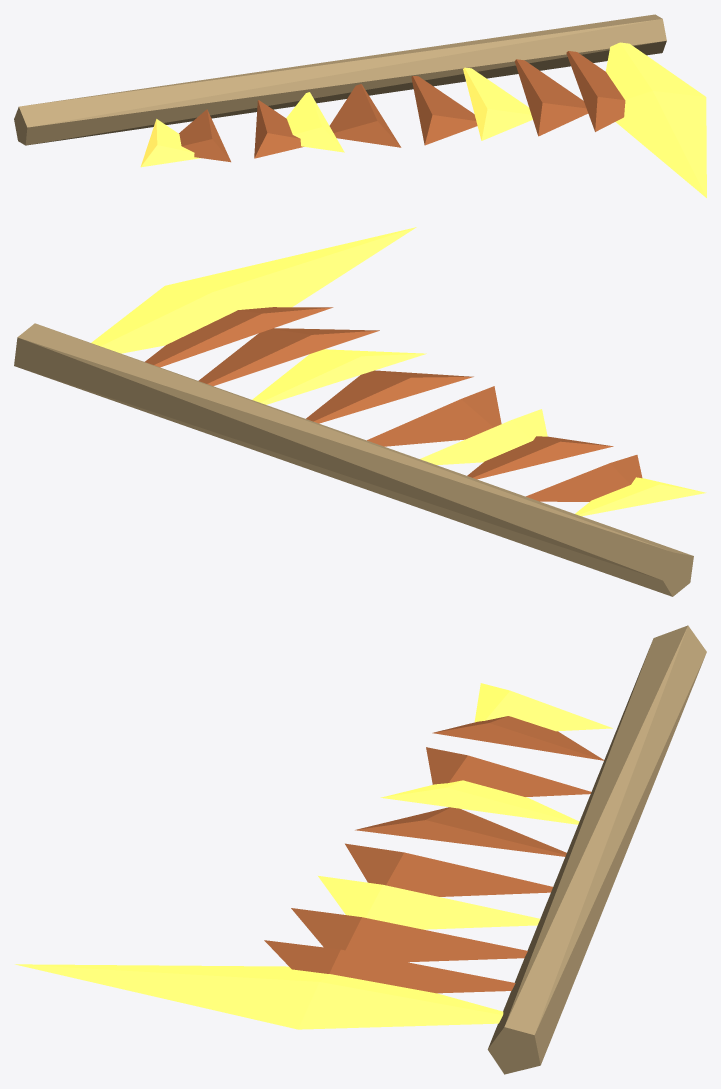
The model's file is wing_l_lod1.glb.
3 renders of one model, top to bottom at view 1: azimuth 30°, elevation 25°; view 2: azimuth 150°, elevation 25°; view 3: azimuth 270°, elevation 25°, orthographic. The views are drawn at different scales.
Visible parts, largest first — view 1: phoenix_wing_l_LOD1; view 2: phoenix_wing_l_LOD1; view 3: phoenix_wing_l_LOD1.
Part boxes in pixels (<box>): phoenix_wing_l_LOD1: <box>14,14,706,197</box>; phoenix_wing_l_LOD1: <box>14,227,706,596</box>; phoenix_wing_l_LOD1: <box>15,625,706,1074</box>.
Bounding box in the file's own units: 5.75 × 0.3695 × 4.22.
